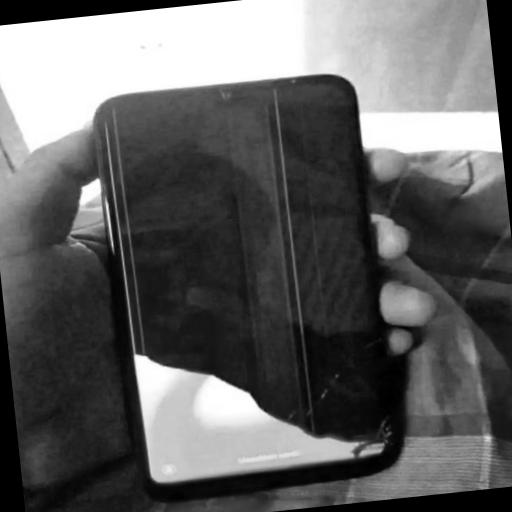phone: (99, 78, 412, 504)
